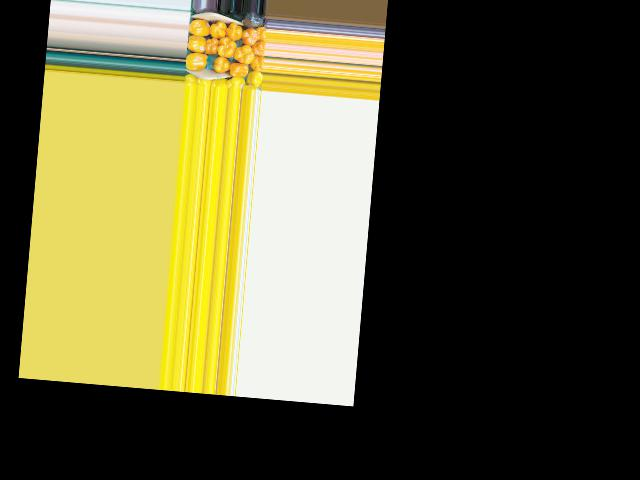bell_pepper: (224, 76, 246, 88)
